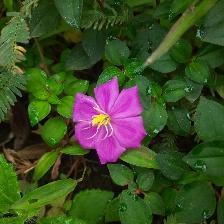malabar melastome: (71, 79, 153, 165)
